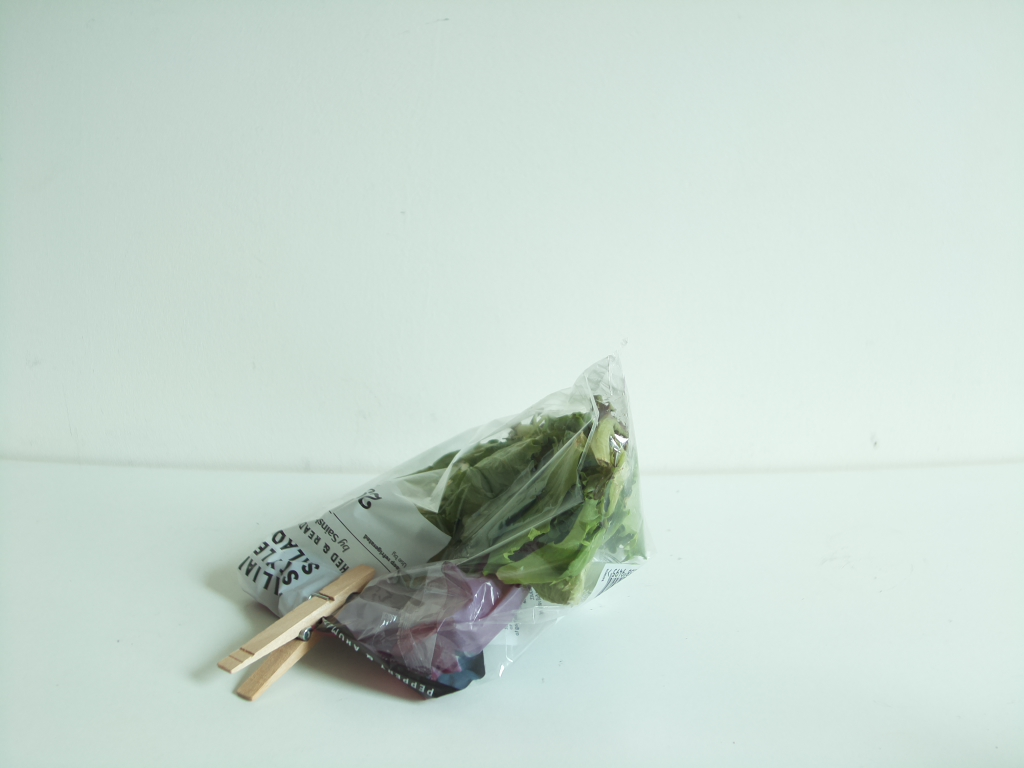salad: (240, 384, 645, 689)
